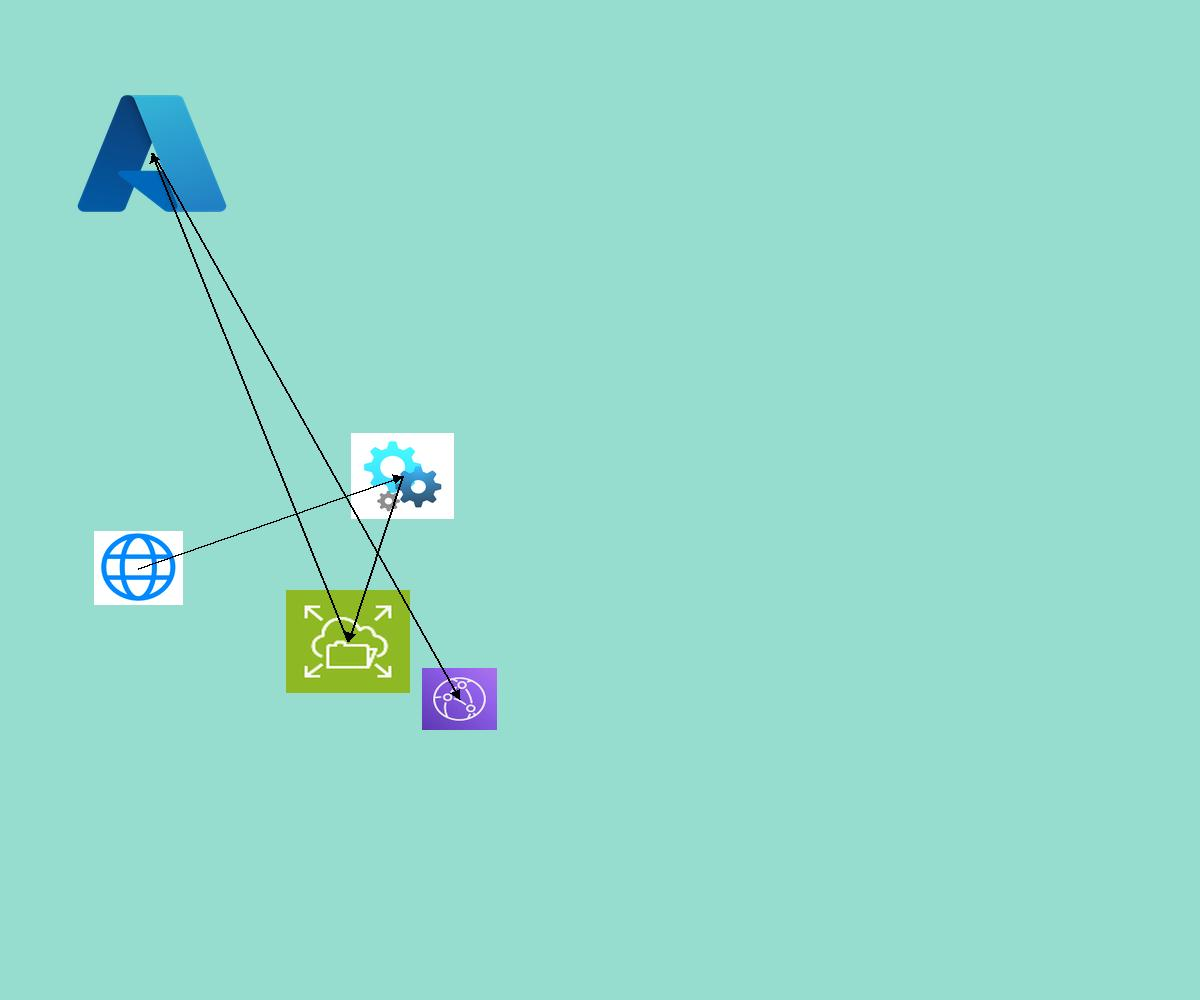AWS-CloudFront: (422, 668, 497, 730)
AWS-EFS: (286, 590, 410, 693)
Azure_api: (351, 433, 454, 519)
Azure_http: (94, 531, 183, 605)
Azure_services: (71, 86, 233, 221)
